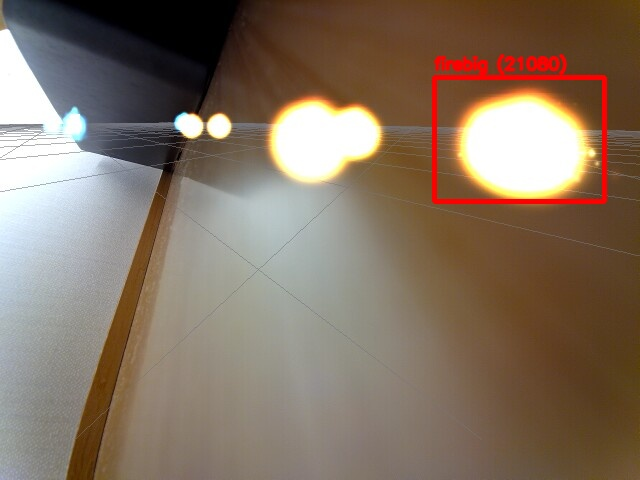firebig: (434, 77, 604, 201)
